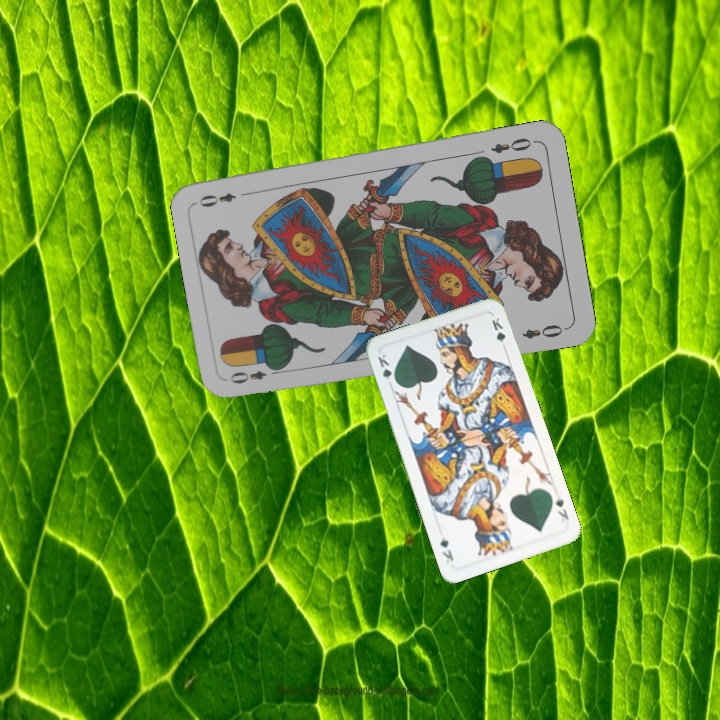EO: (226, 362, 284, 387), (487, 133, 534, 156)
GK: (373, 350, 399, 387), (551, 492, 571, 522)
